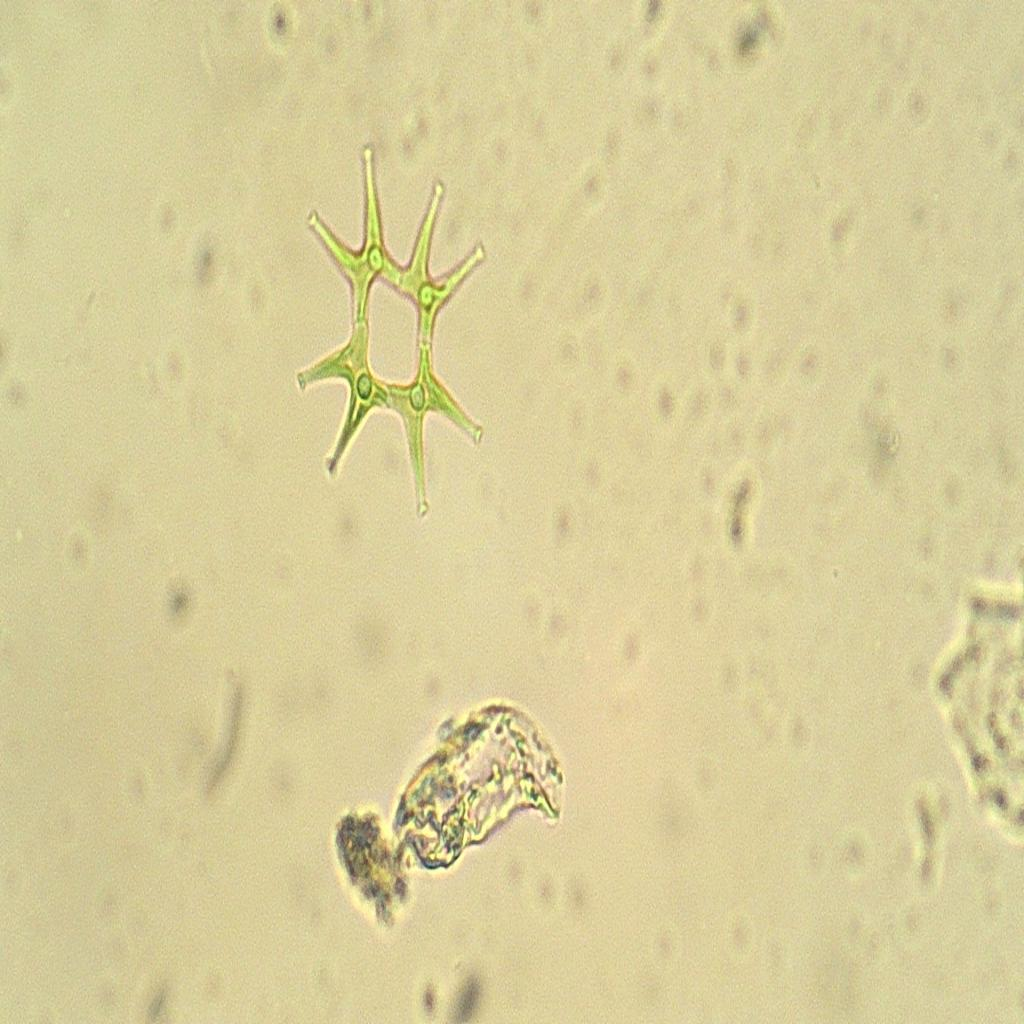Pediastrum_10: (276, 132, 508, 530)
